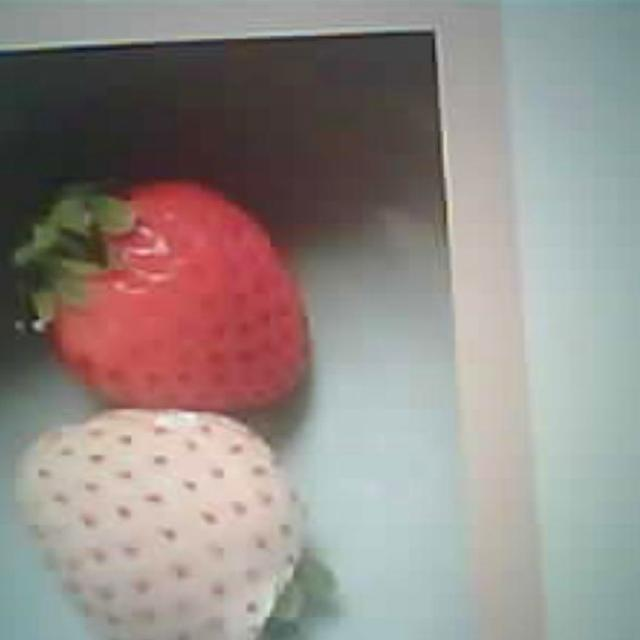Healthy Fruit: (12, 177, 312, 413), (18, 414, 302, 640)
